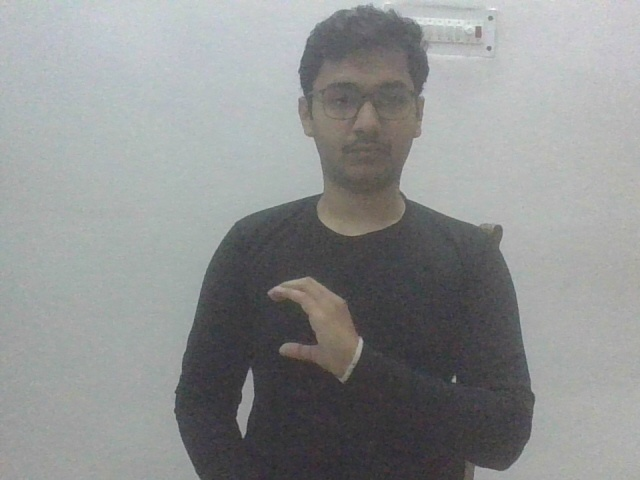C: (263, 273, 367, 382)
